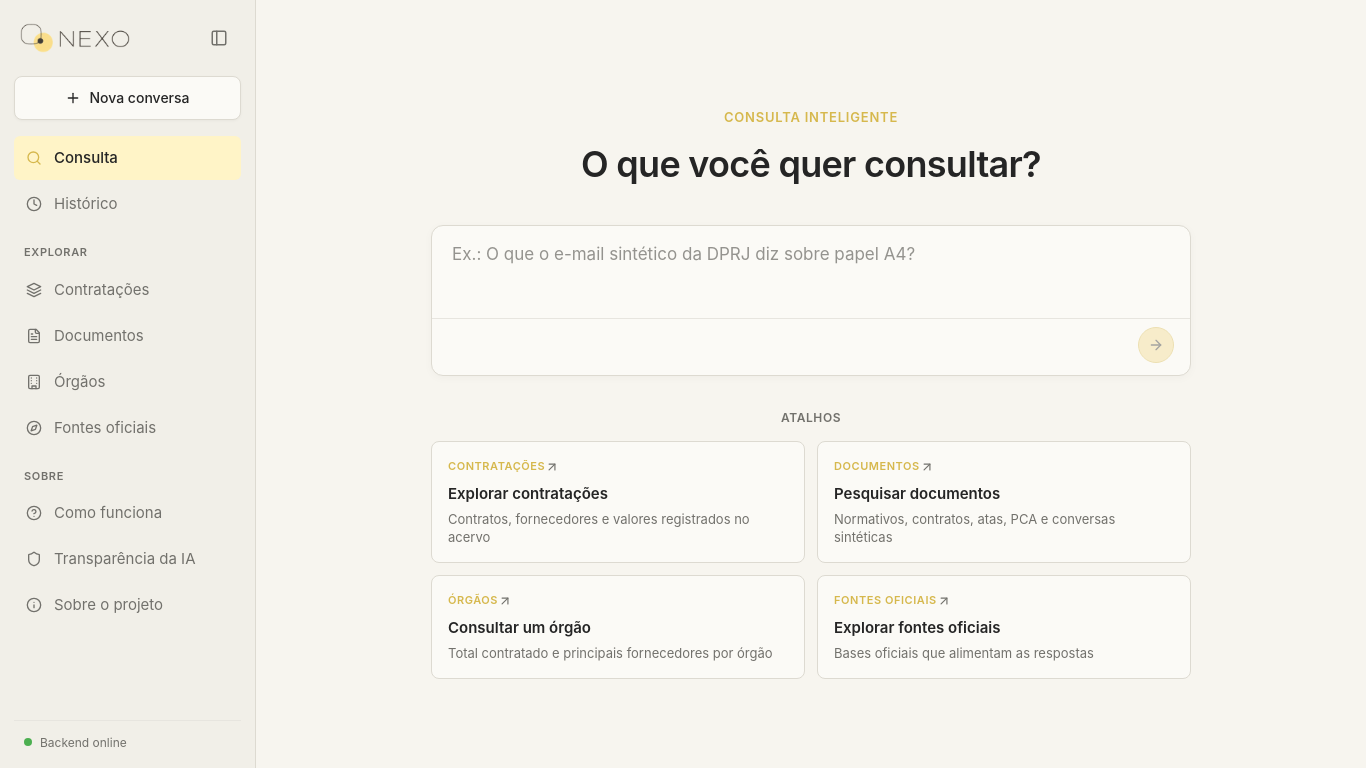
Test: Integração do chat com /api/v1/query › explica como consultar quando uma pergunta recebe sem_evidencia
Type "Qual dado inexistente no acervo?" into the text box named "Pergunta sobre contratações públicas".
click(811, 272); type("Qual dado inexistente no acervo?")  # box x1=452 y1=242 x2=1170 y2=302
Then press Enter
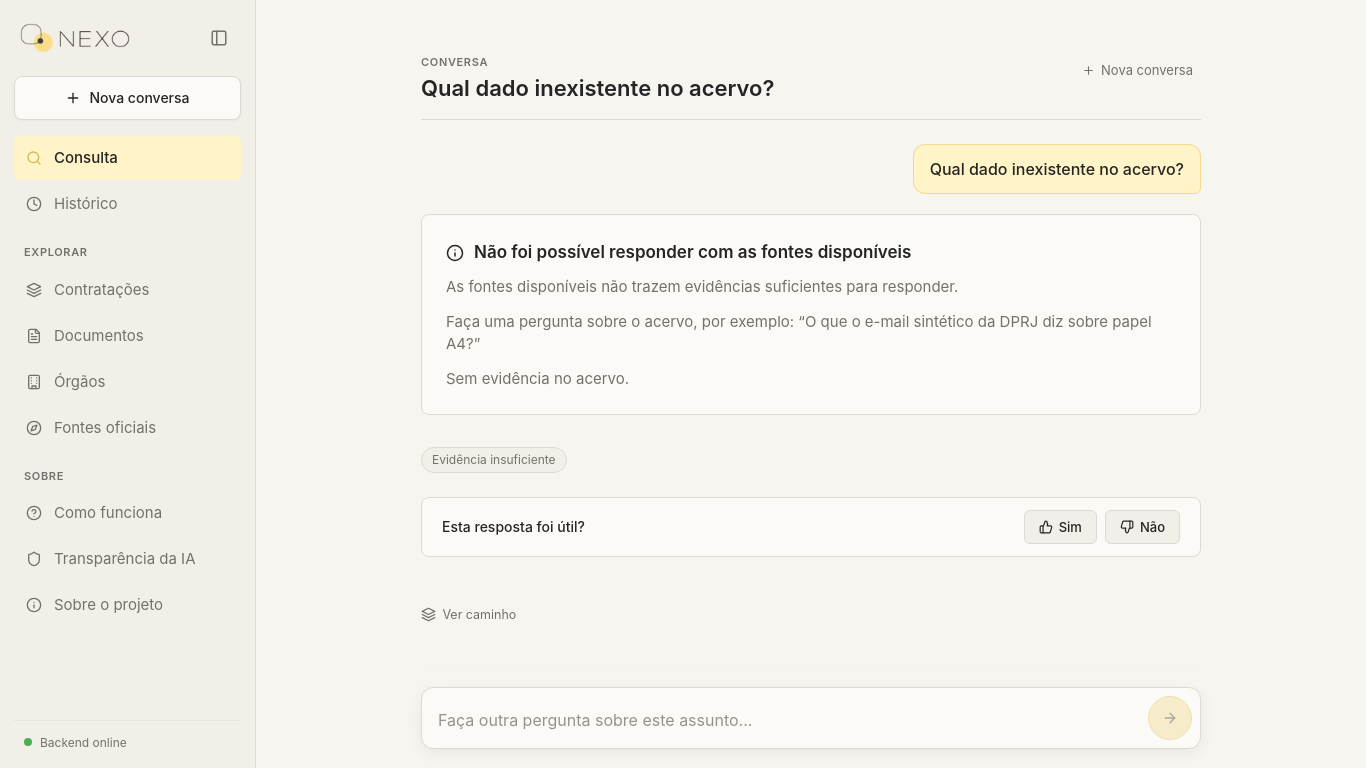
Expected: the text "Faça uma pergunta sobre o acervo" is shown, x1=446 y1=312 x2=794 y2=331
Expected: the text box named "Pergunta de acompanhamento" is shown, x1=438 y1=700 x2=1140 y2=740
